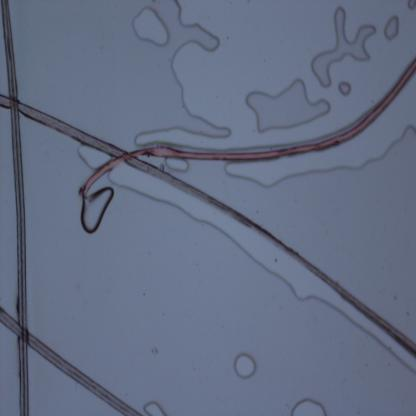Air bubble: (122, 0, 236, 148), (222, 126, 416, 188), (310, 5, 378, 88), (246, 76, 334, 135), (131, 3, 171, 50), (81, 186, 114, 234), (76, 145, 112, 168), (288, 396, 327, 416), (233, 353, 258, 381), (165, 157, 190, 175), (382, 15, 400, 39), (143, 401, 164, 415), (338, 82, 352, 97), (407, 0, 416, 11)
Microfibre: (0, 93, 416, 359), (83, 59, 416, 197), (0, 307, 141, 415), (0, 0, 30, 414)
